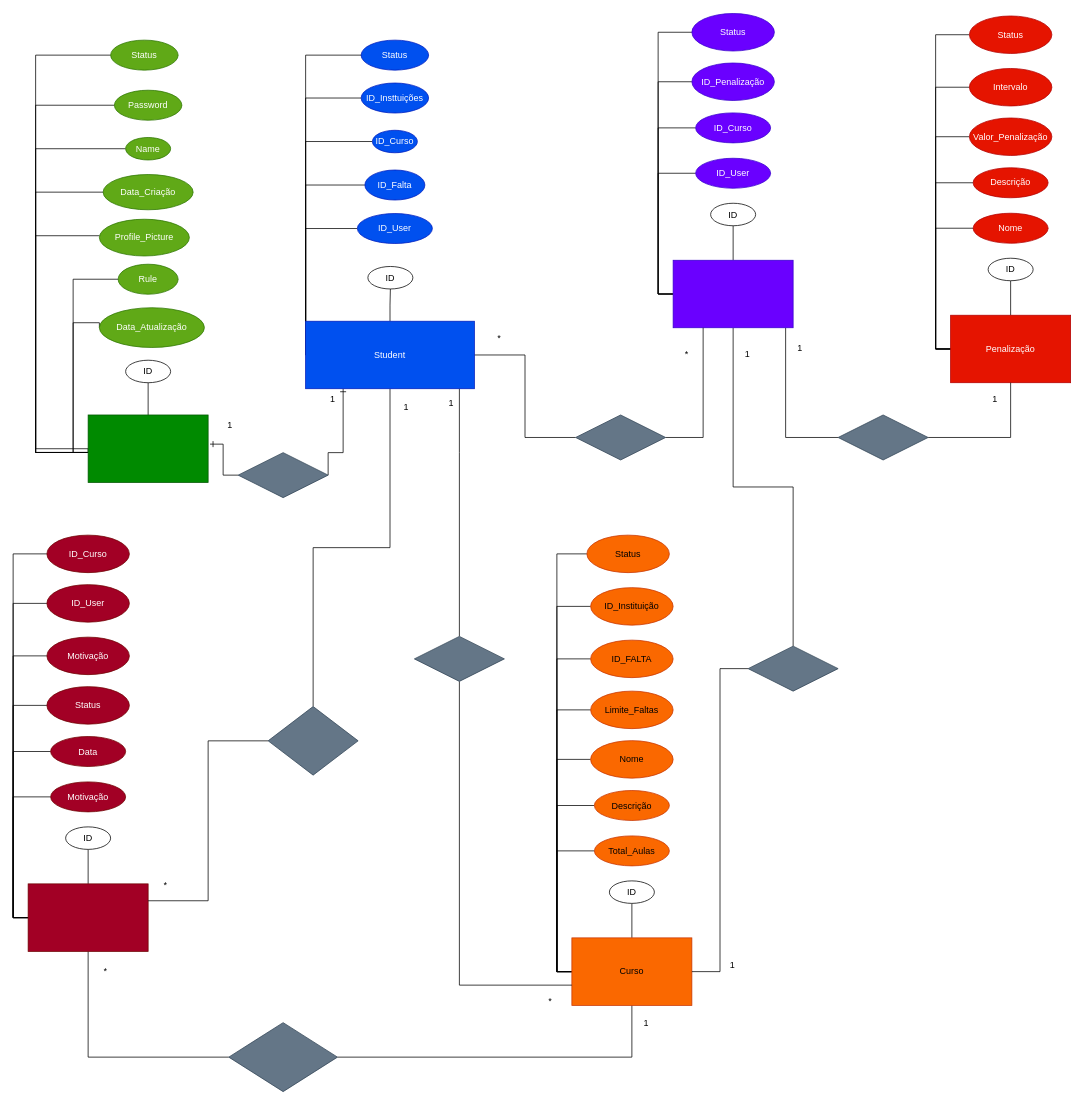
This 1084x1105 diagram has some shape labels left out. The shapes that lost their labels are listed below. From the top down, each one's centre as x and y in pixels, then its label:
At [732,294]: "Instituição".
At [147,448]: "User".
At [620,437]: "MATRICULADO".
At [882,437]: "POSSUI".
At [282,475]: "EXTENDE".
At [459,658]: "CURSA".
At [792,668]: "CONTEM".
At [312,740]: "COMETE".
At [87,917]: "Falta".
At [283,1057]: "REGISTRADA".
